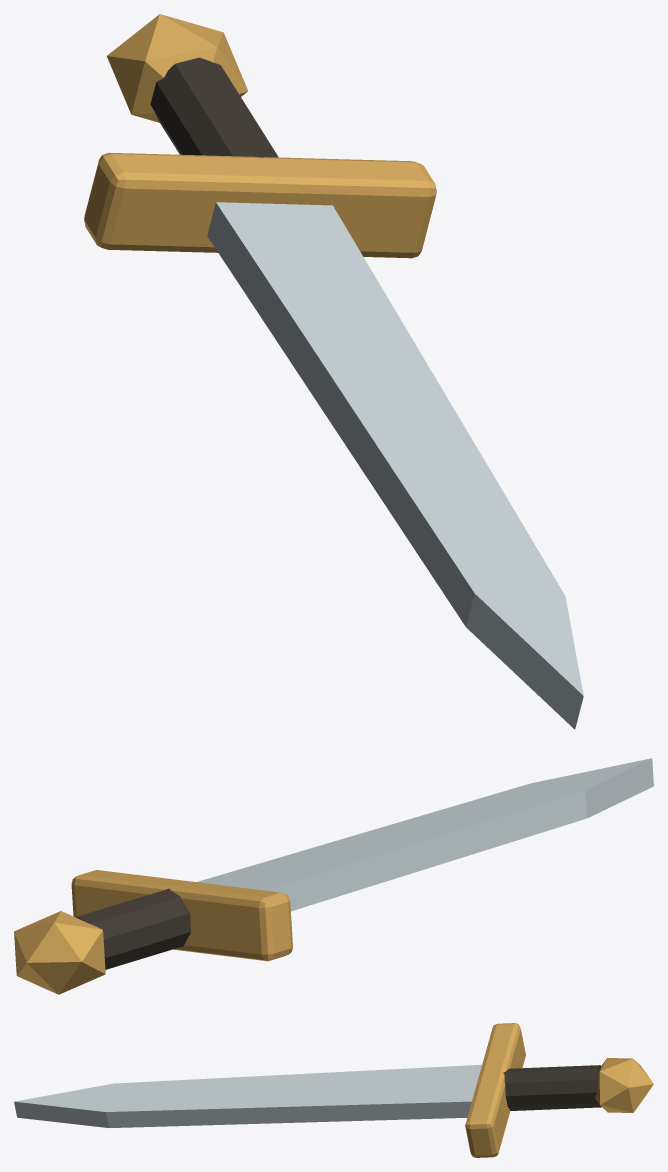
The model's file is SM_OathSword.fbx.
3 renders of one model, top to bottom at view 1: azimuth 30°, elevation 25°; view 2: azimuth 150°, elevation 25°; view 3: azimuth 270°, elevation 25°, orthographic. The views are drawn at different scales.
Visible parts, largest first — view 1: SM_OathSword; view 2: SM_OathSword; view 3: SM_OathSword.
Part boxes in pixels (<box>): SM_OathSword: <box>84,14,583,729</box>; SM_OathSword: <box>14,758,653,994</box>; SM_OathSword: <box>14,1023,653,1157</box>.
Size of the model in its own units: 0.3566 by 1.2 by 0.2238.
